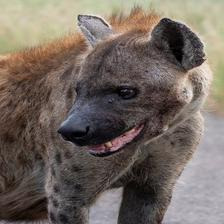hyena: (0, 10, 207, 224)
